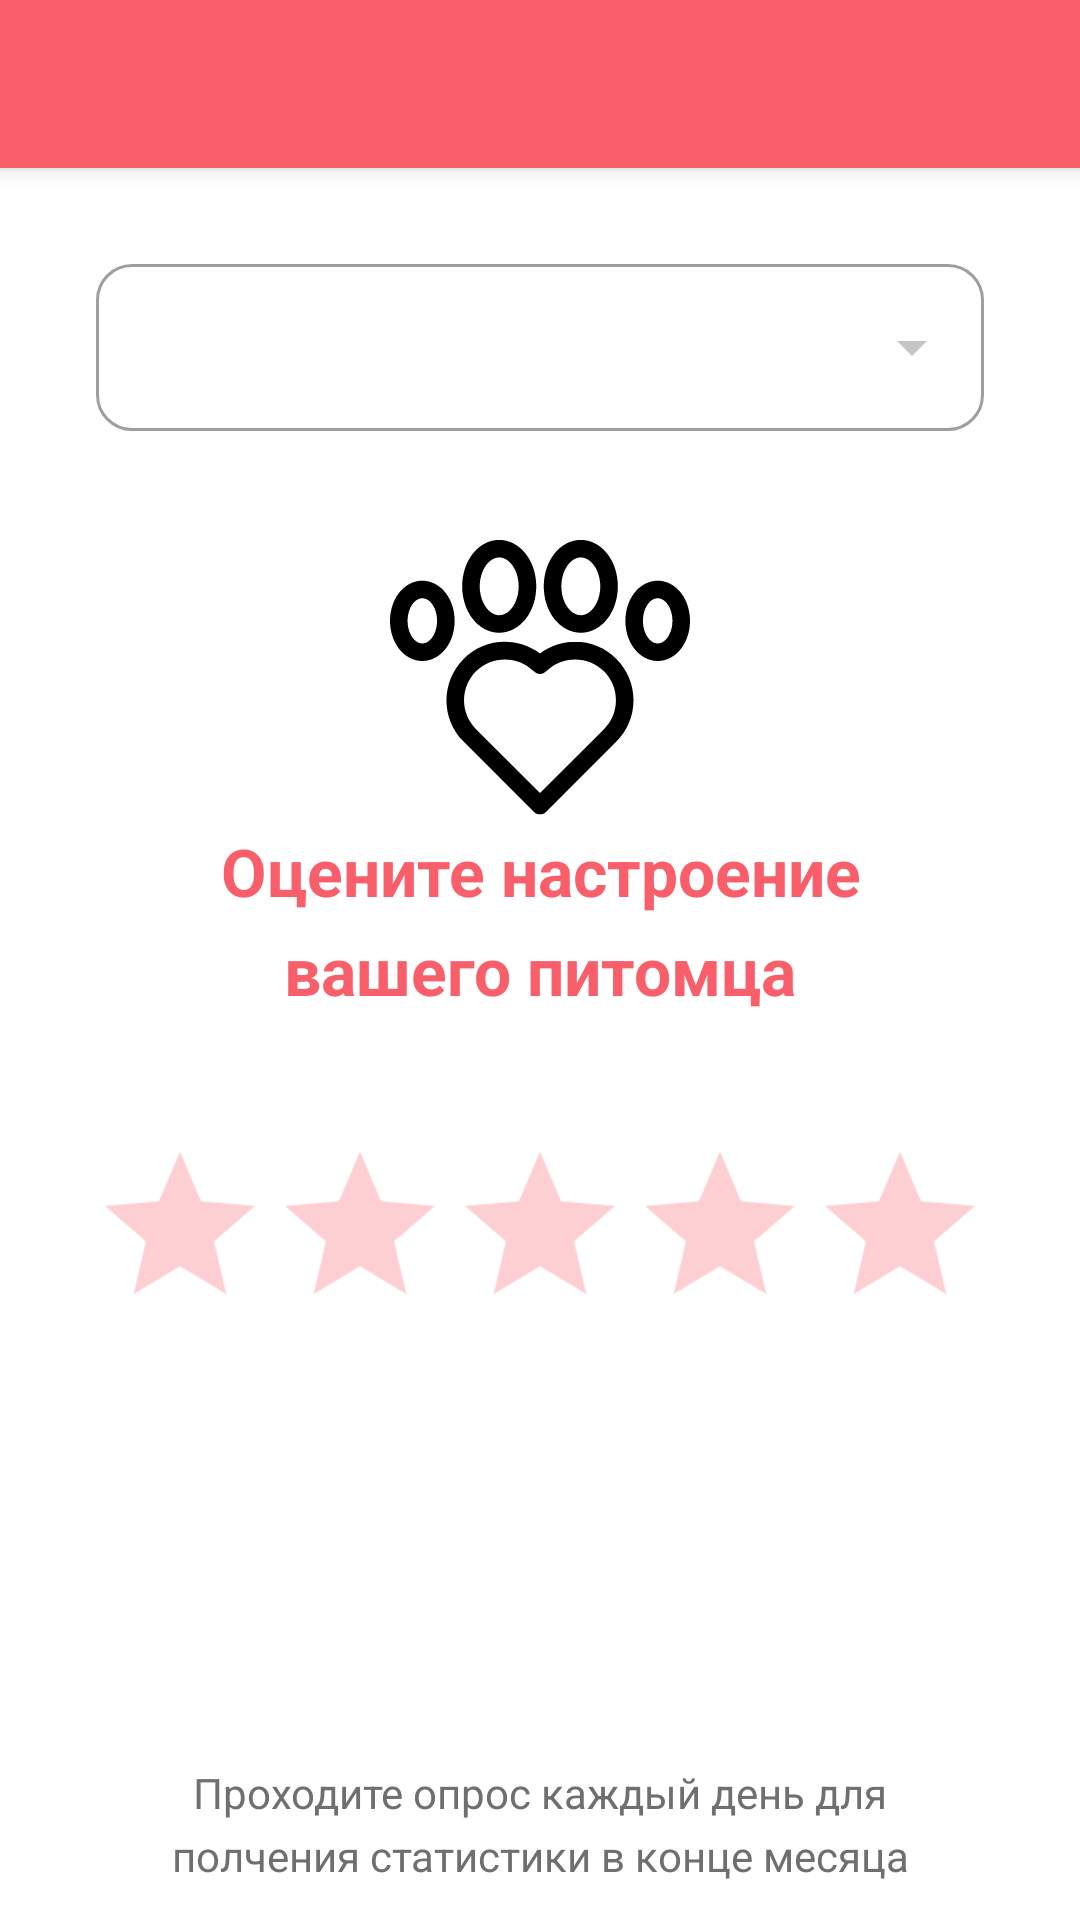

Where icons sit on this 1080×1920 app screen, as Rect(x1, y1, x2, y2):
animal paw: Rect(390, 540, 690, 815)
